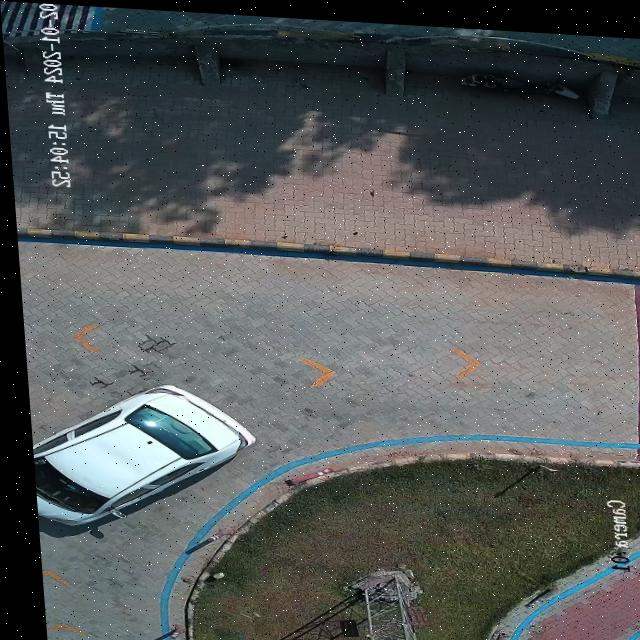car: (26, 383, 246, 526)
